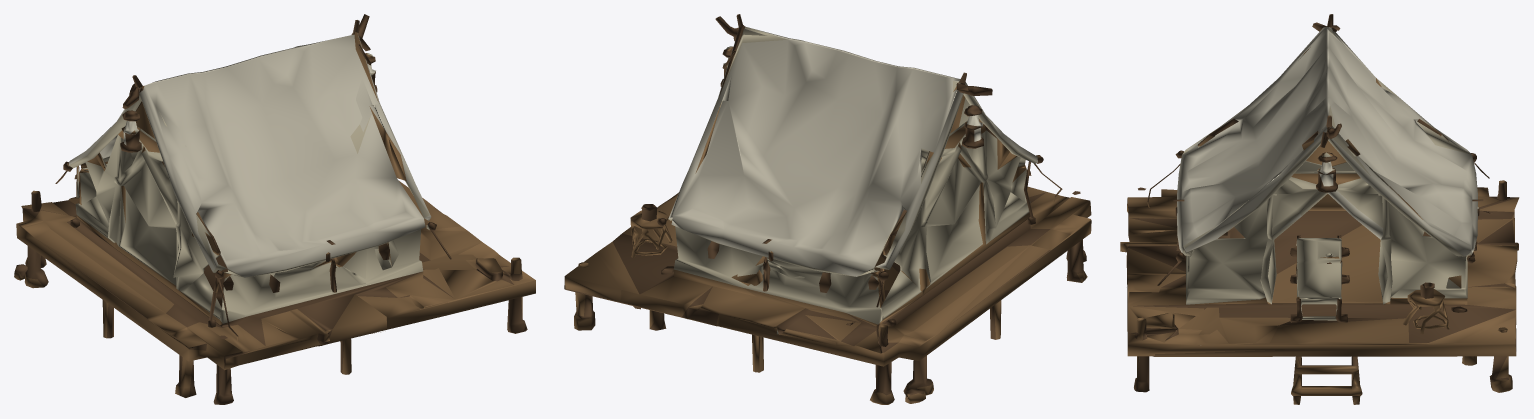
File: survey_tent_a_tripo.glb
3 views of the same model, side by side, from view 1: azimuth 30°, elevation 25°; view 2: azimuth 150°, elevation 25°; view 3: azimuth 270°, elevation 25° (orthographic). The views are drawn at different scales.
Visible parts, largest first — view 1: Surface; view 2: Surface; view 3: Surface.
Part boxes in pixels (left/top/right/bottom): Surface: left=14, top=14, right=535, bottom=404; Surface: left=564, top=14, right=1091, bottom=404; Surface: left=1120, top=14, right=1519, bottom=404.
Bounding box in the file's own units: 6.08 × 4.12 × 6.1.
